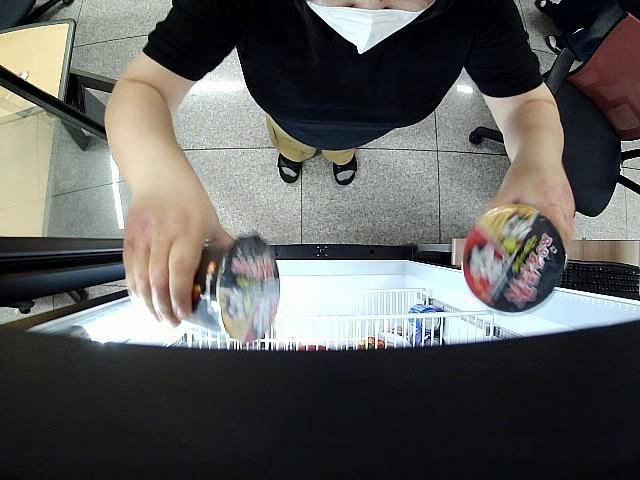08_buldak_S: (464, 204, 566, 313), (183, 234, 280, 342)
